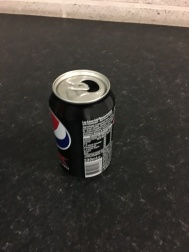can_black: (39, 65, 124, 185)
